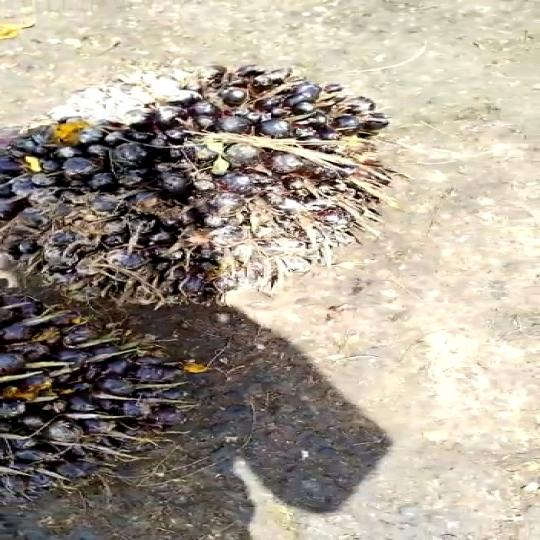mentah: (0, 63, 389, 319)
